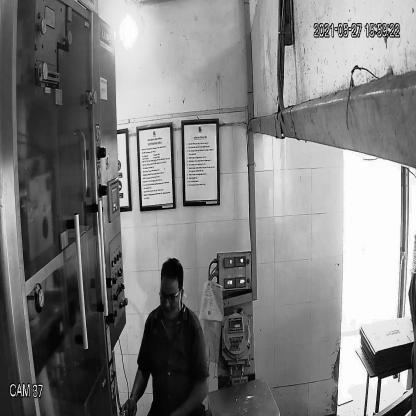goggles: (156, 280, 186, 309)
